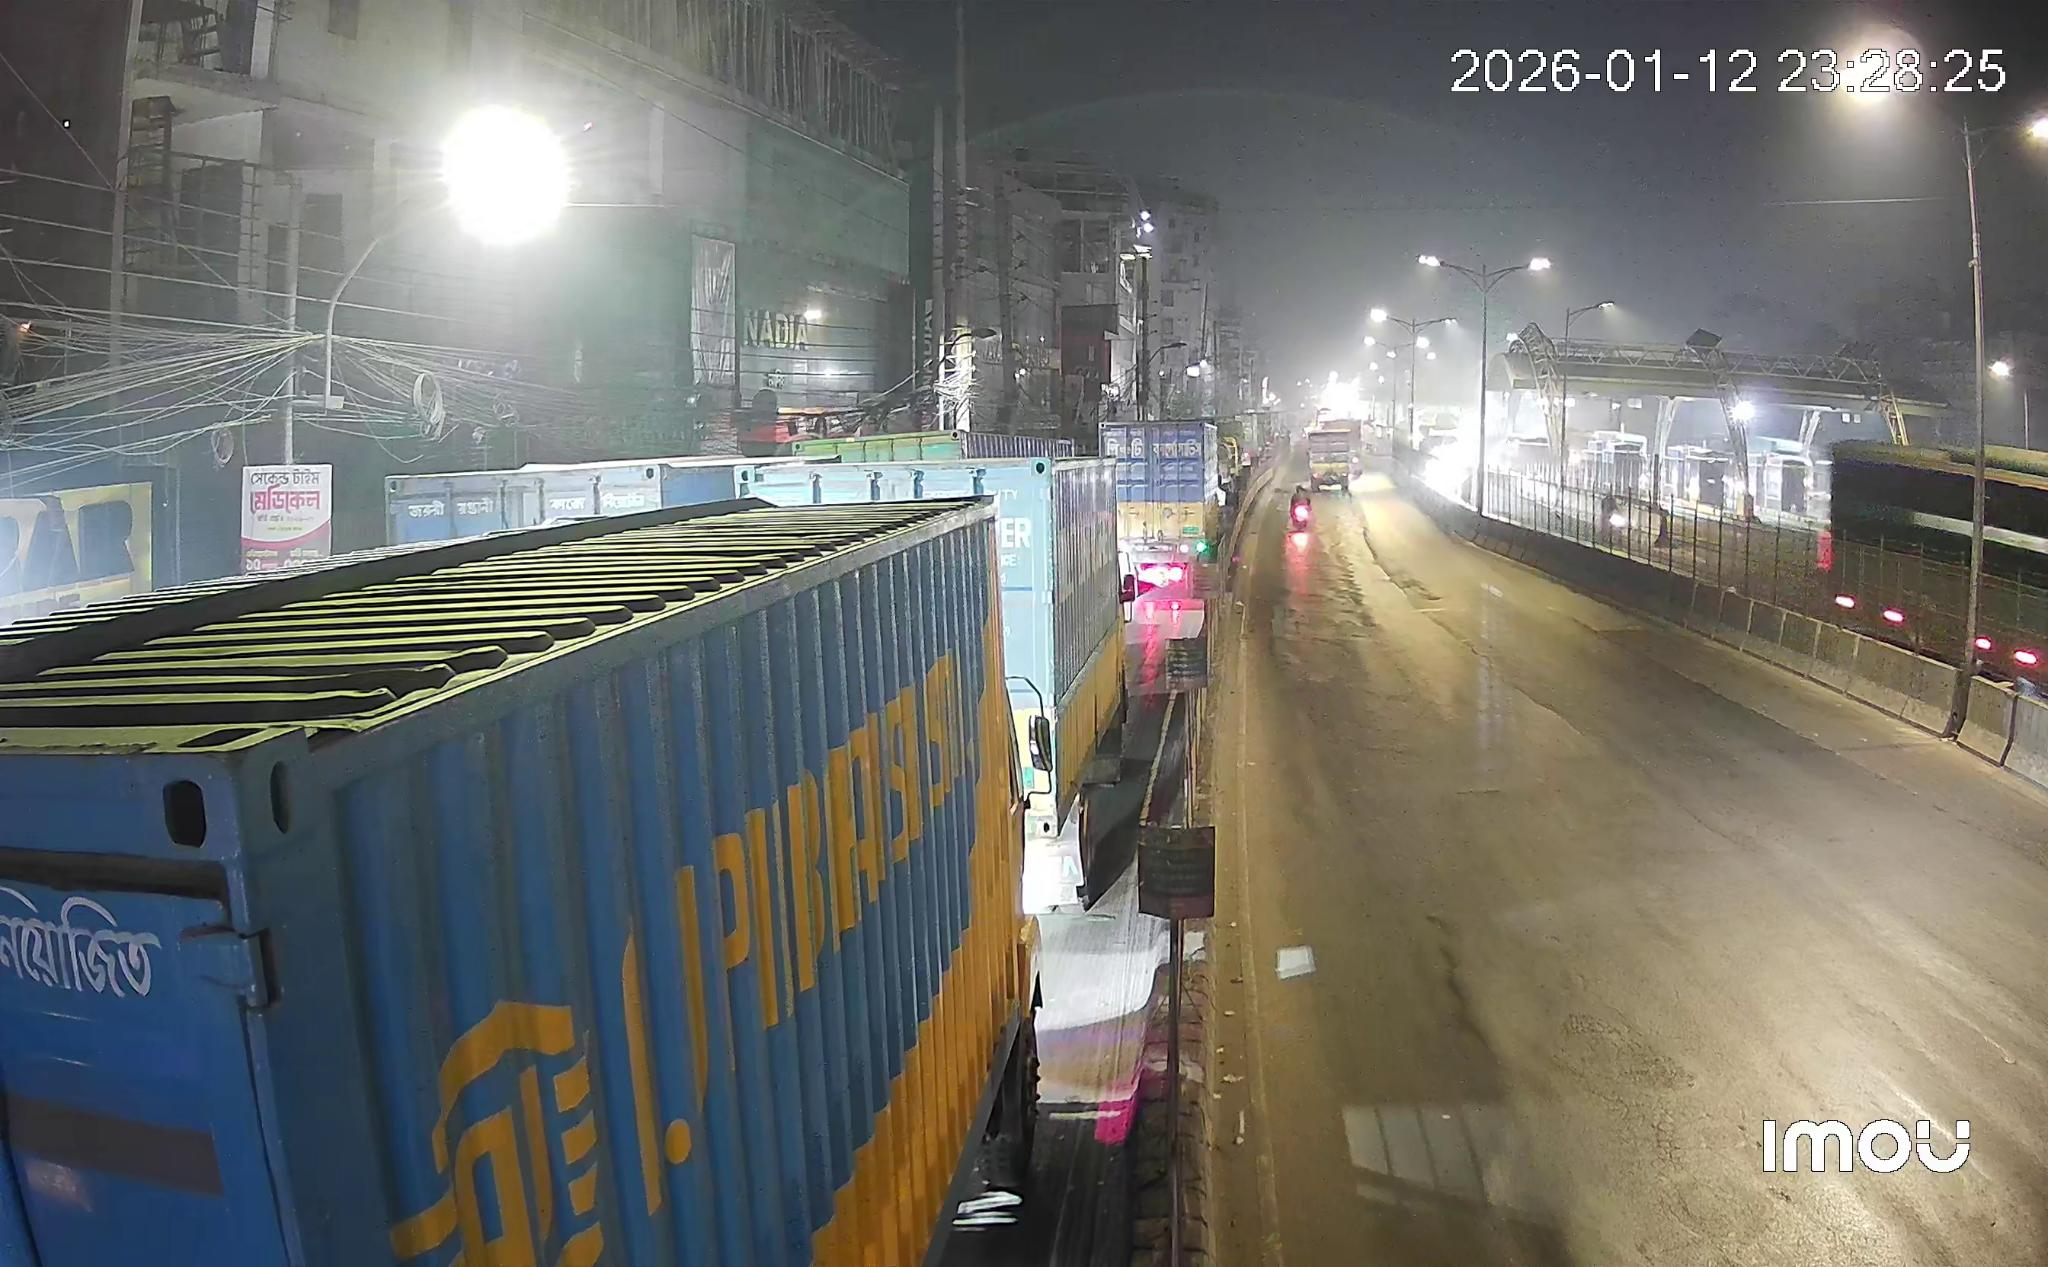Bus: (1815, 440, 1973, 660), (1972, 446, 2047, 686)
Motorcycle: (1289, 486, 1312, 528)
Truck: (0, 500, 1036, 1267), (742, 456, 1135, 913), (1102, 418, 1223, 603)
